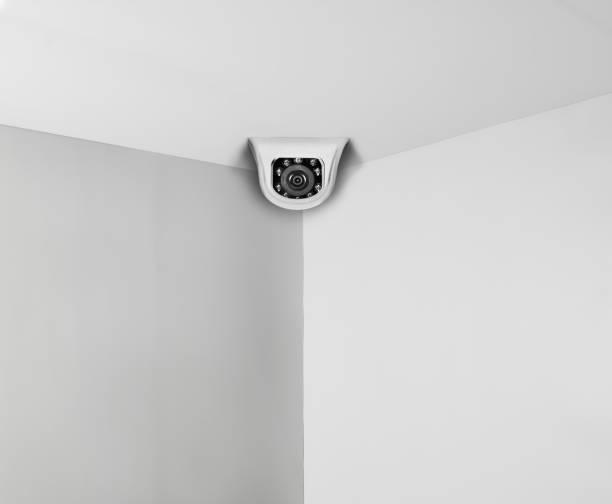camera: (233, 129, 356, 216)
